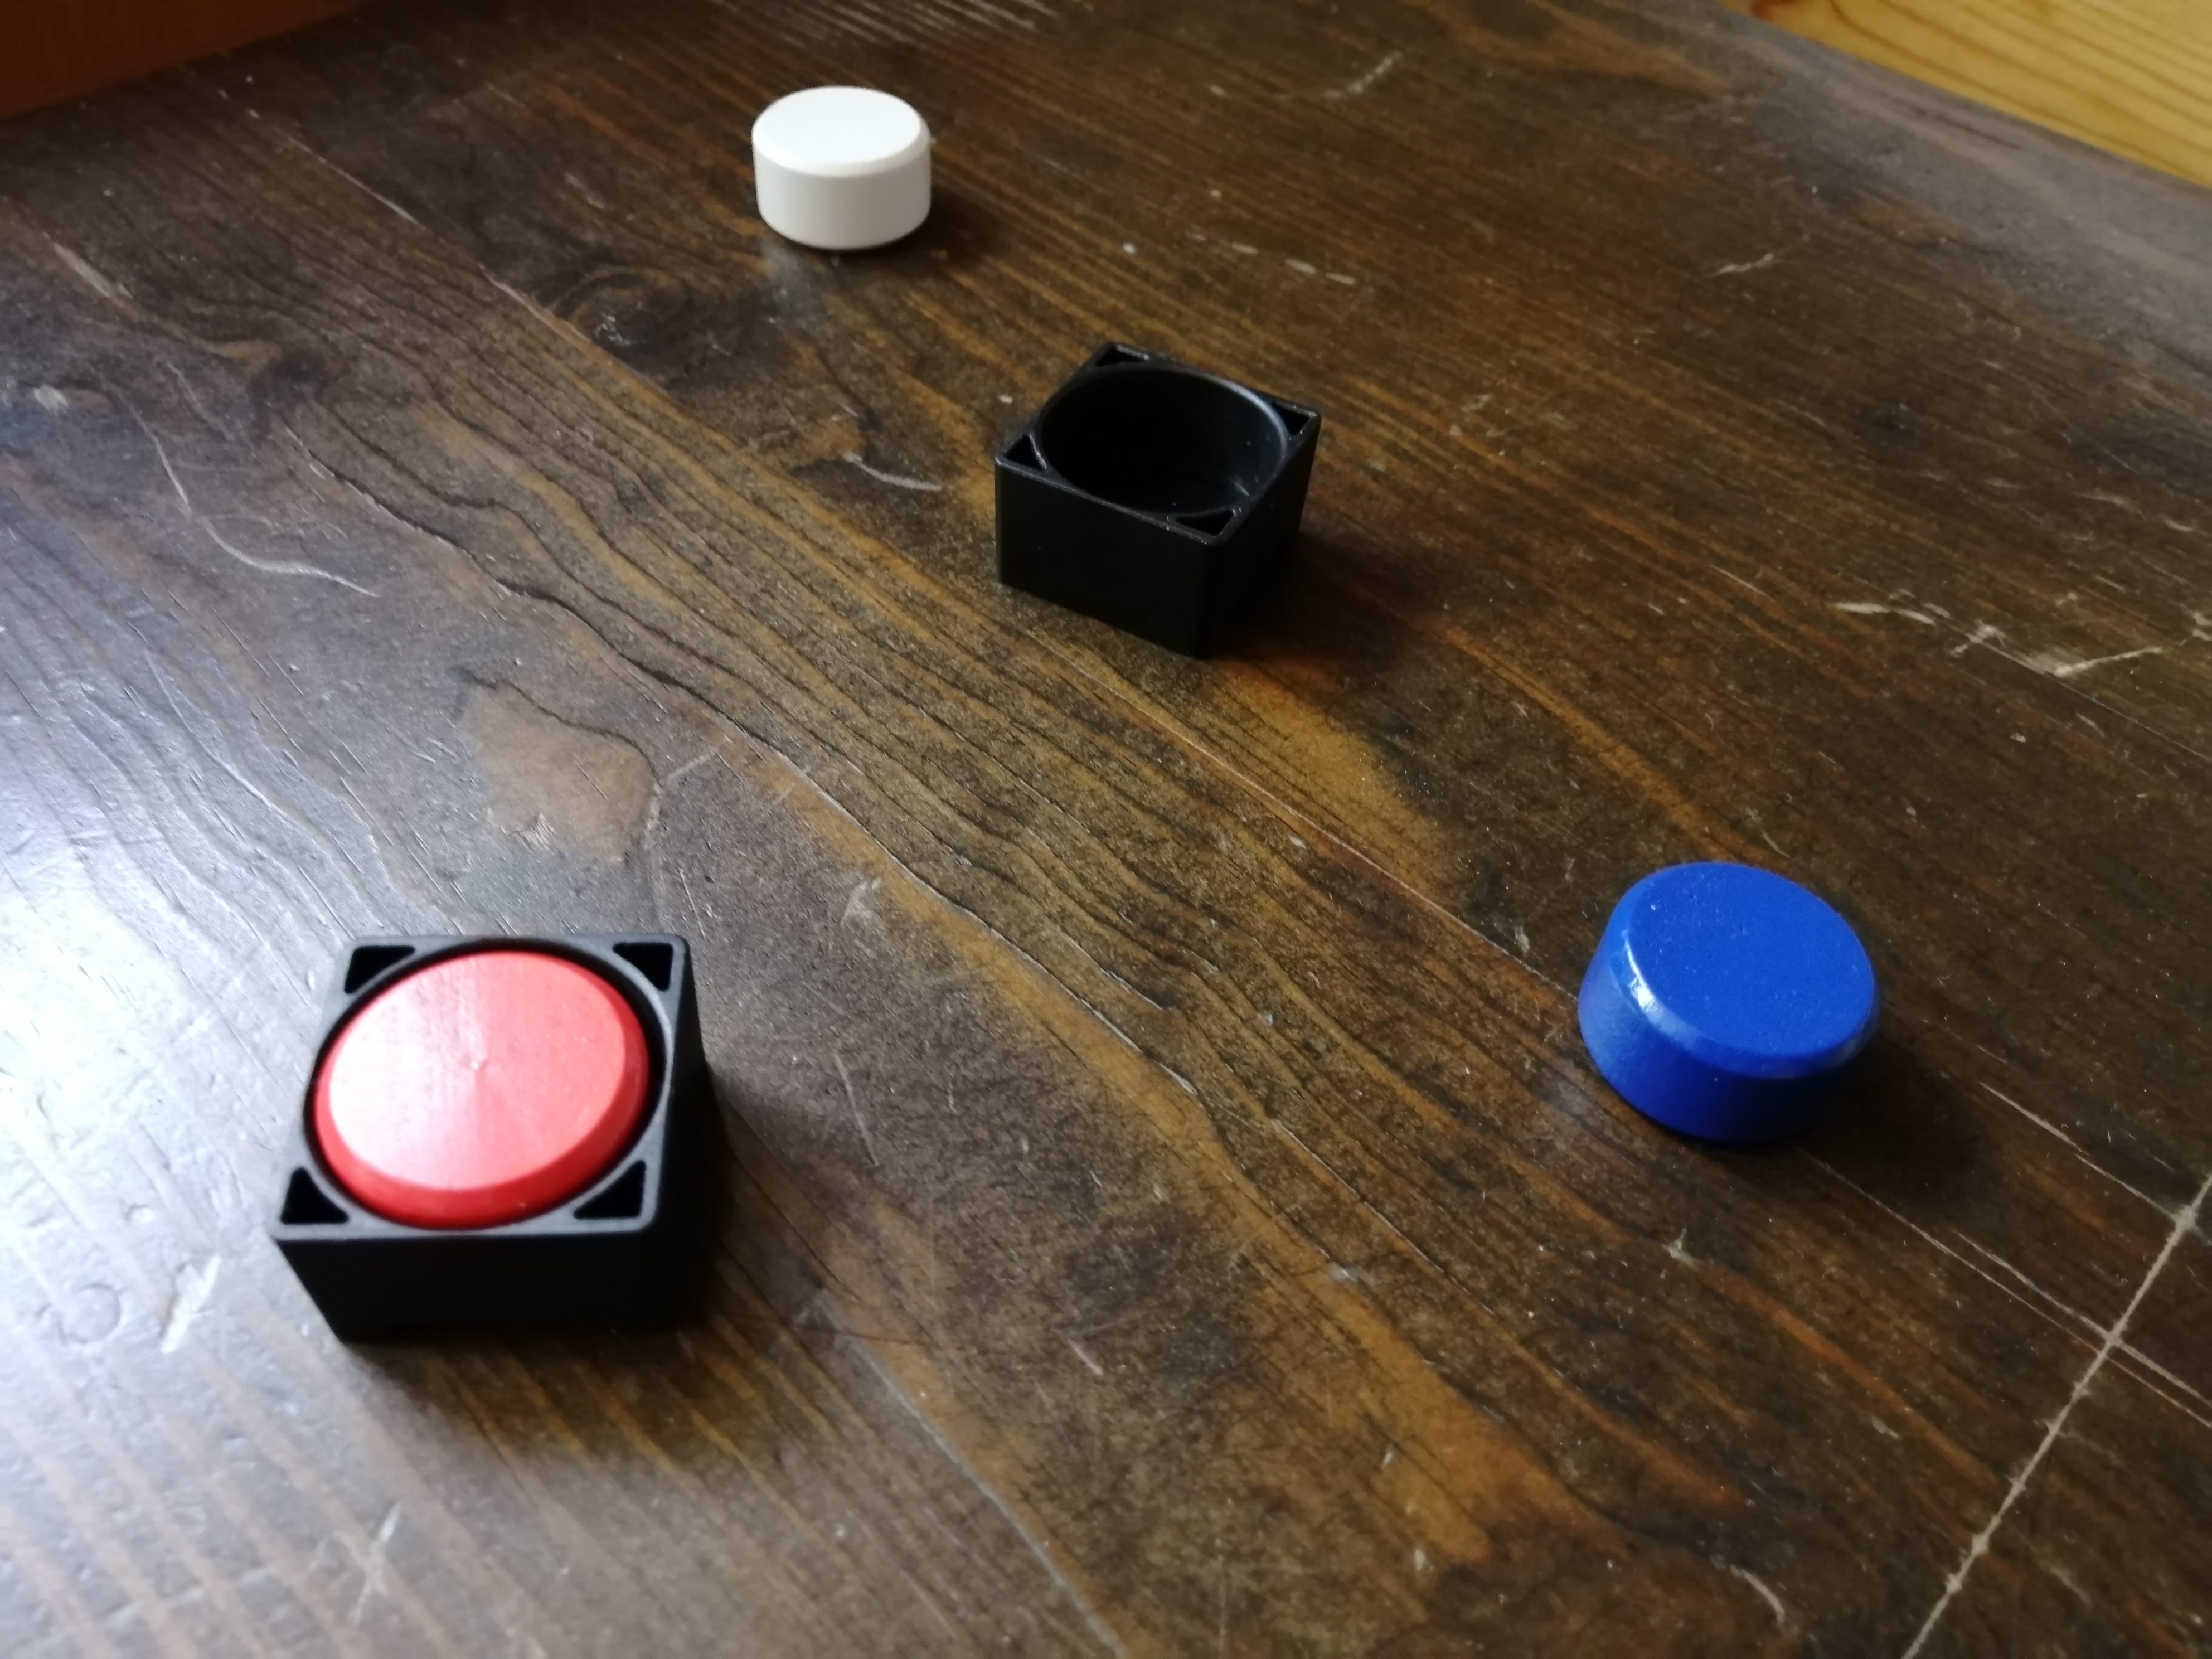Behaelter: (272, 932, 716, 1363), (989, 343, 1325, 652)
WerkStueck: (320, 946, 636, 1222), (1573, 863, 1874, 1141), (747, 89, 934, 253)
